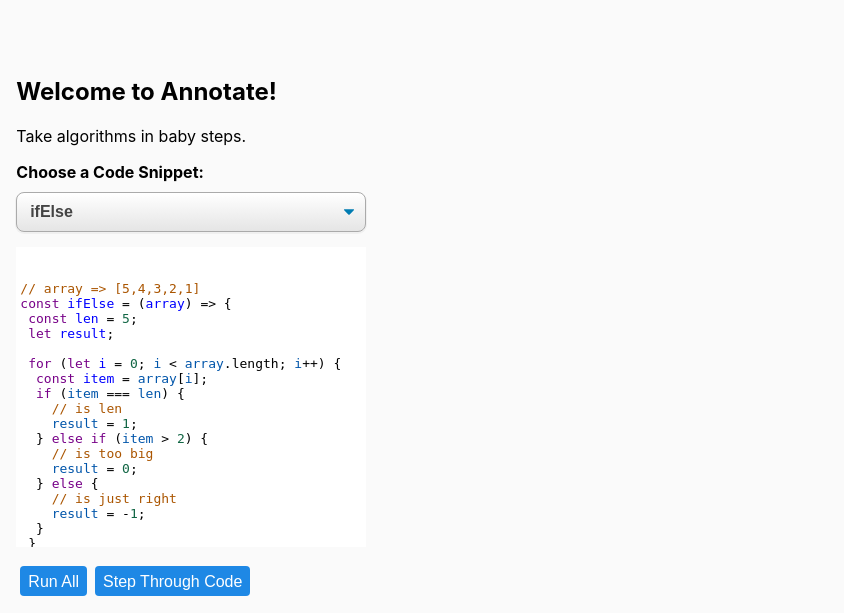
Test case: <App /> › when running all code › should reset log lines when Step Forward is clicked
Click the button "Run All".
click(54, 581)  # box x1=20 y1=566 x2=87 y2=596
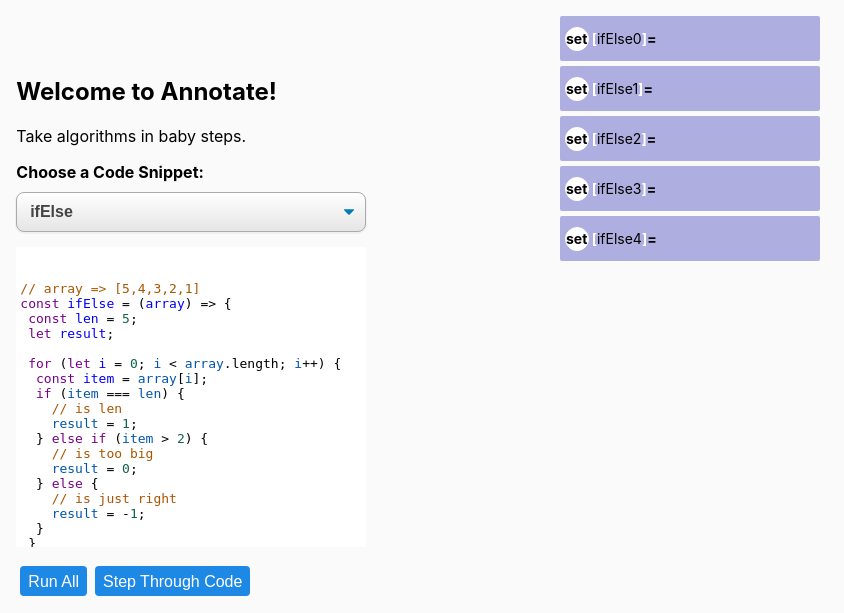
Expected: the text "[ifElse4]" is shown, x1=592 y1=230 x2=647 y2=247
Click the button "Step Through Code".
click(173, 581)  # box x1=95 y1=566 x2=250 y2=596
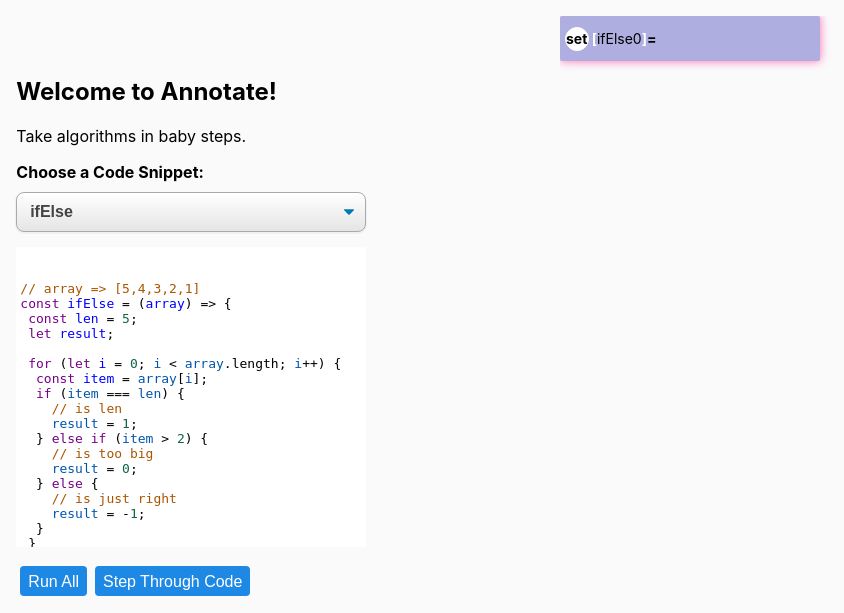
Expected: the number of elements with test id "log-line" is 1, x1=560 y1=16 x2=820 y2=61
